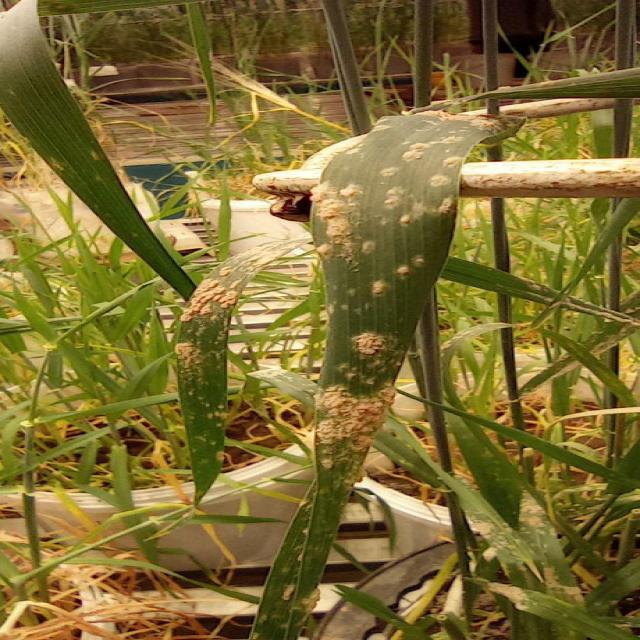wheat-powdery-mildew: (252, 109, 526, 640)
